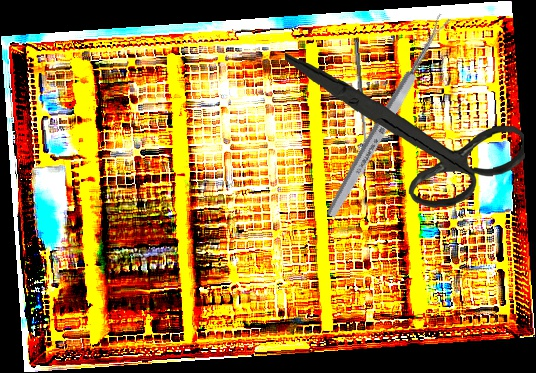Iris Scissors: (284, 39, 528, 216)
Surgical Spoon: (323, 12, 453, 220), (353, 37, 368, 150)
